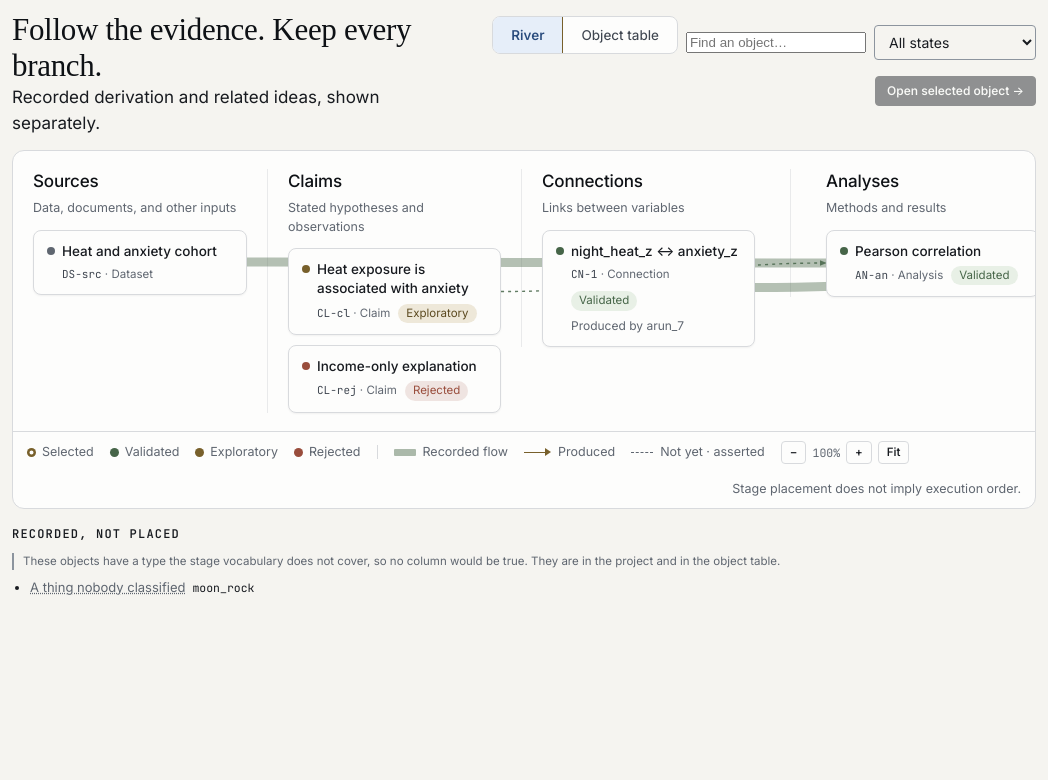
Test: the research river › offers an object table as a real alternative to the canvas
Check: the text "Pearson correlation" is shown, box [855,242,981,260]
Click the tab "Object table" at {"x": 620, "y": 35}, box [563,17,677,53]
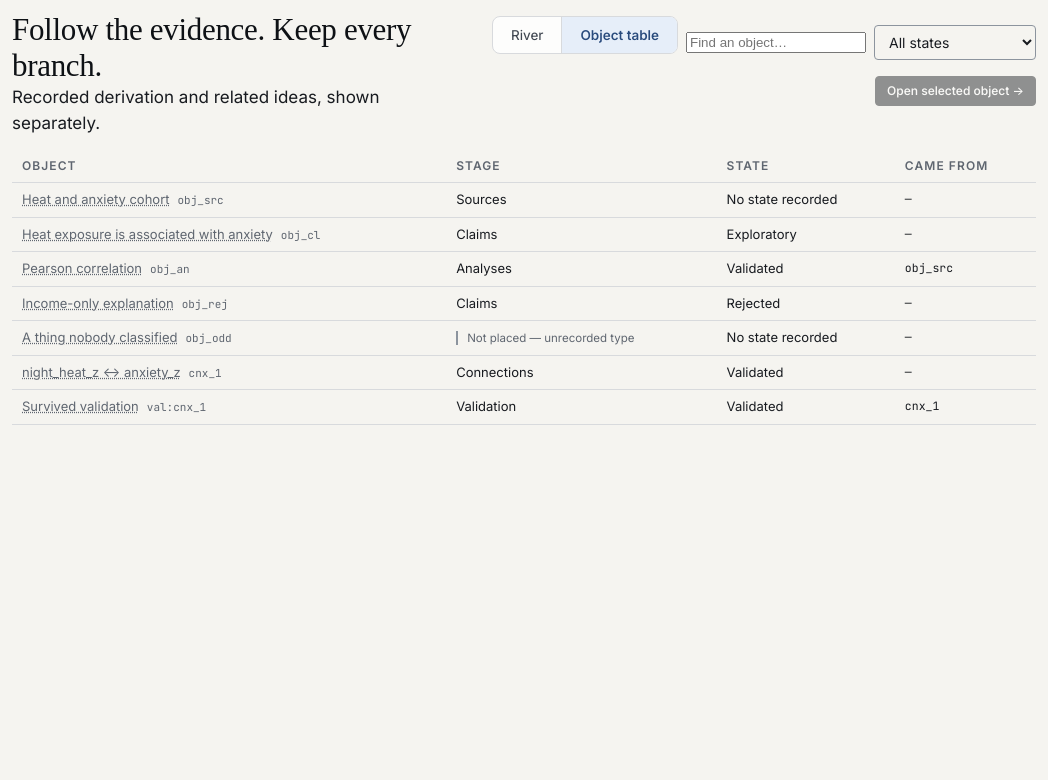
Check: the button "Heat and anxiety cohort" is shown, box [22,190,170,210]
Check: the text "Not placed — unrecorded type" is shown, box [456,331,634,345]
